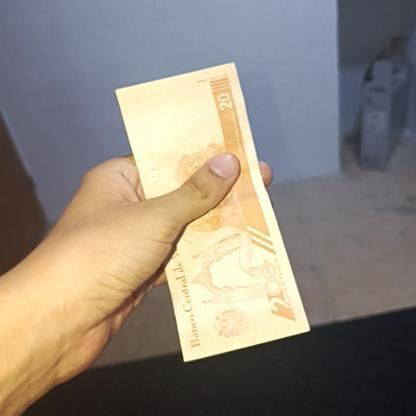twenty-back-vef: (115, 61, 310, 365)
